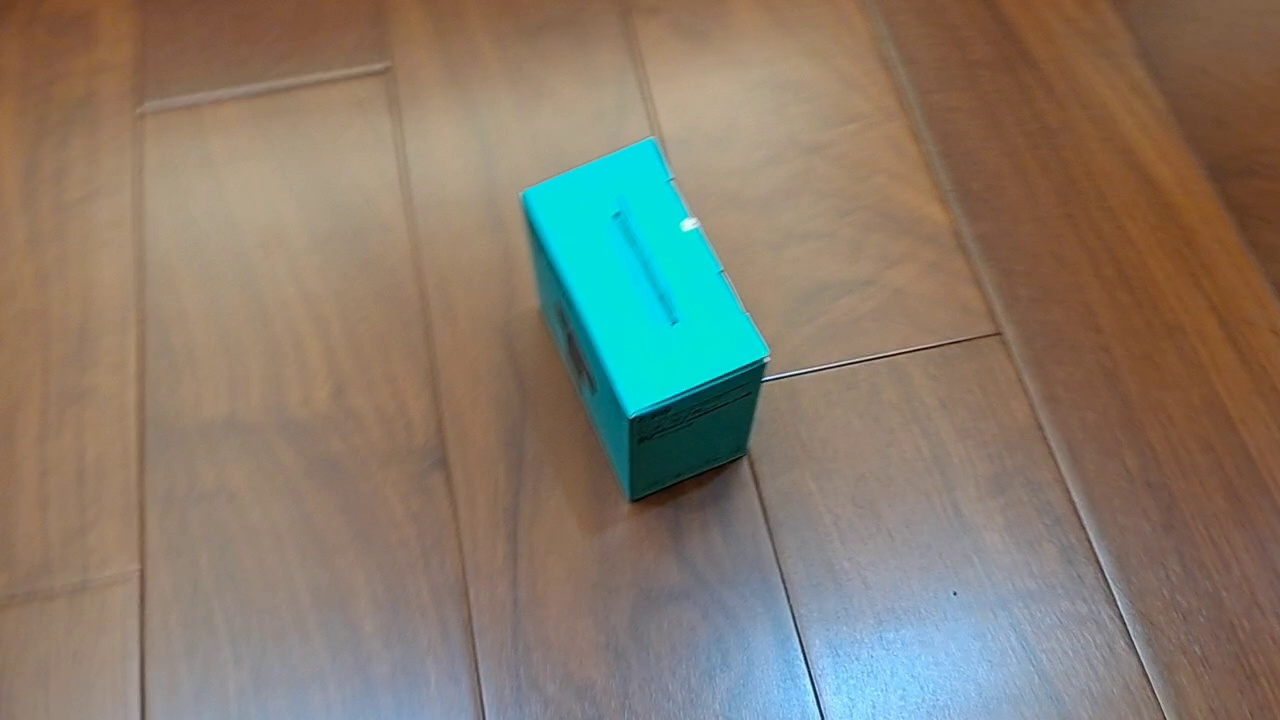webcam: (517, 135, 772, 503)
